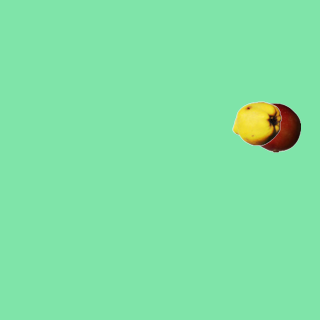Apple Braeburn: (250, 102, 300, 152)
Quince: (231, 98, 281, 148)
